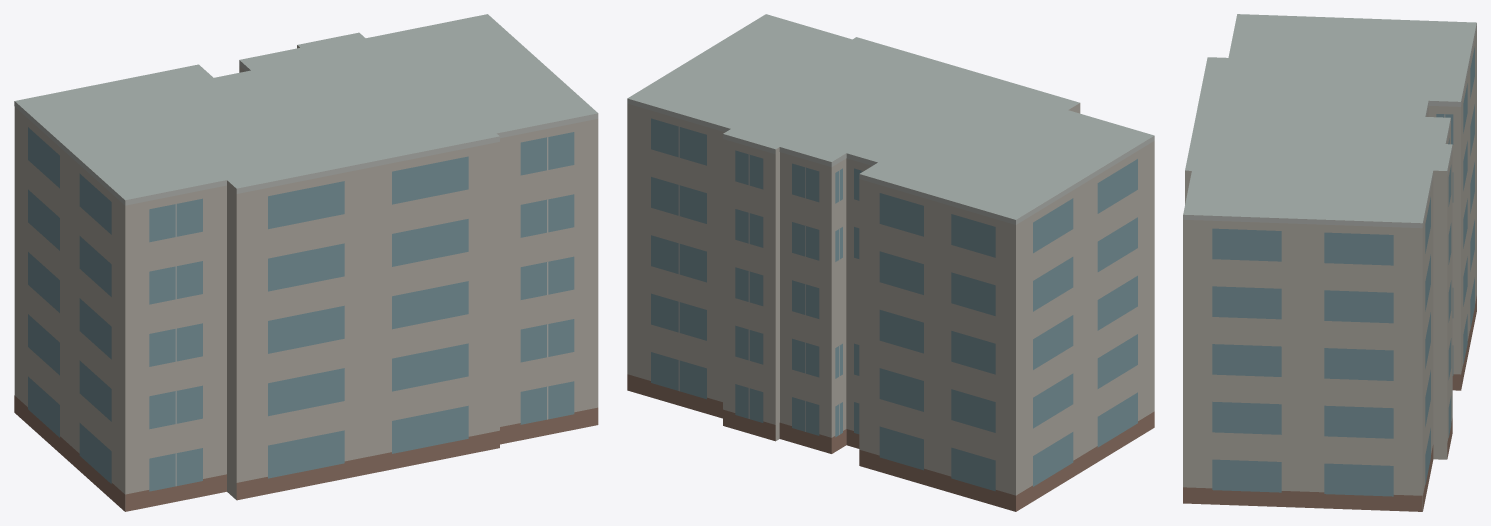
The model's file is survey-upis-32667075.glb.
3 views of the same model, side by side, from view 1: azimuth 30°, elevation 25°; view 2: azimuth 150°, elevation 25°; view 3: azimuth 270°, elevation 25° (orthographic). The views are drawn at different scales.
Visible parts, largest first — view 1: survey-upis-32667075.tmp; view 2: survey-upis-32667075.tmp; view 3: survey-upis-32667075.tmp.
Boxes of the visible parts, bbox=[...] form: survey-upis-32667075.tmp: bbox=[14, 14, 598, 511]; survey-upis-32667075.tmp: bbox=[627, 14, 1154, 511]; survey-upis-32667075.tmp: bbox=[1183, 14, 1476, 511].
Size of the model in its own units: 21.77 by 14 by 12.92.
